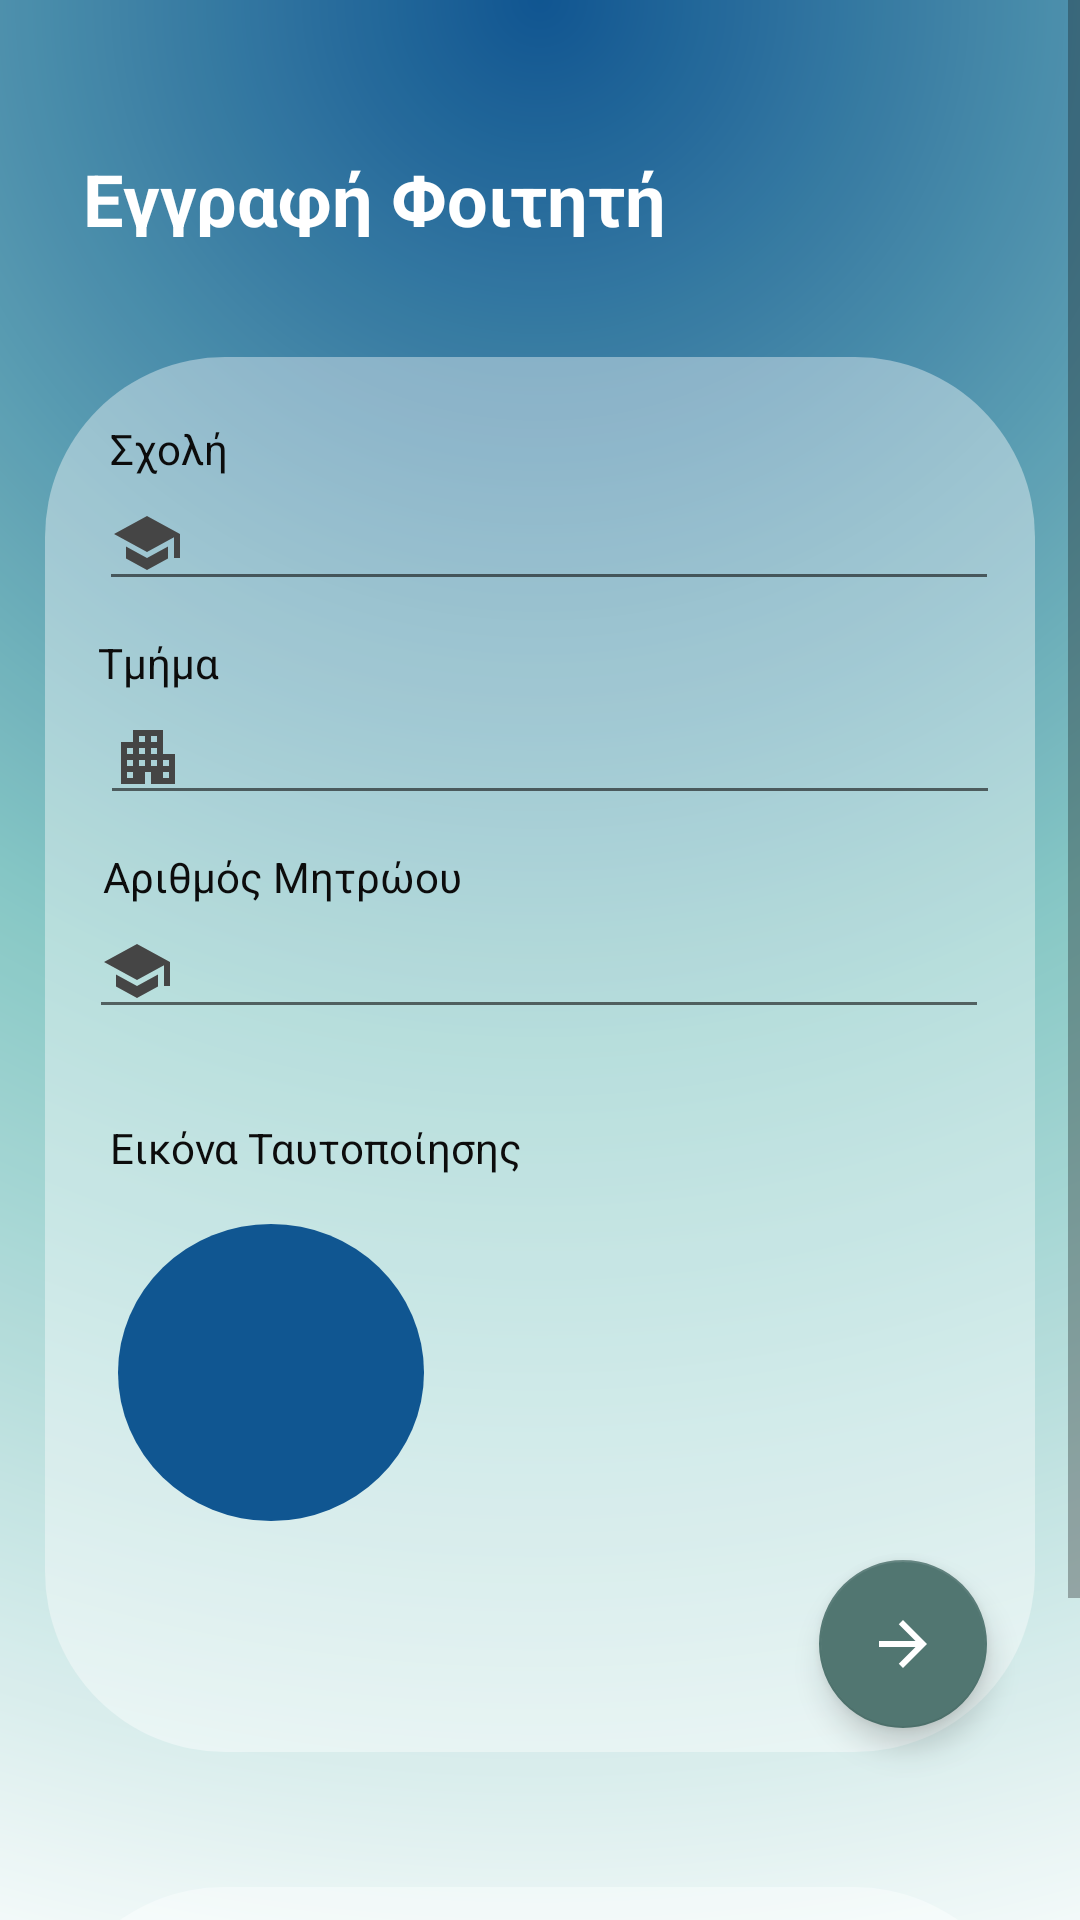

Locate icon controls on the screen. Image size 1080 x 1920, boxes as box=[x1, y1, x2, y2].
arrow forward: box=[819, 1560, 987, 1728]
